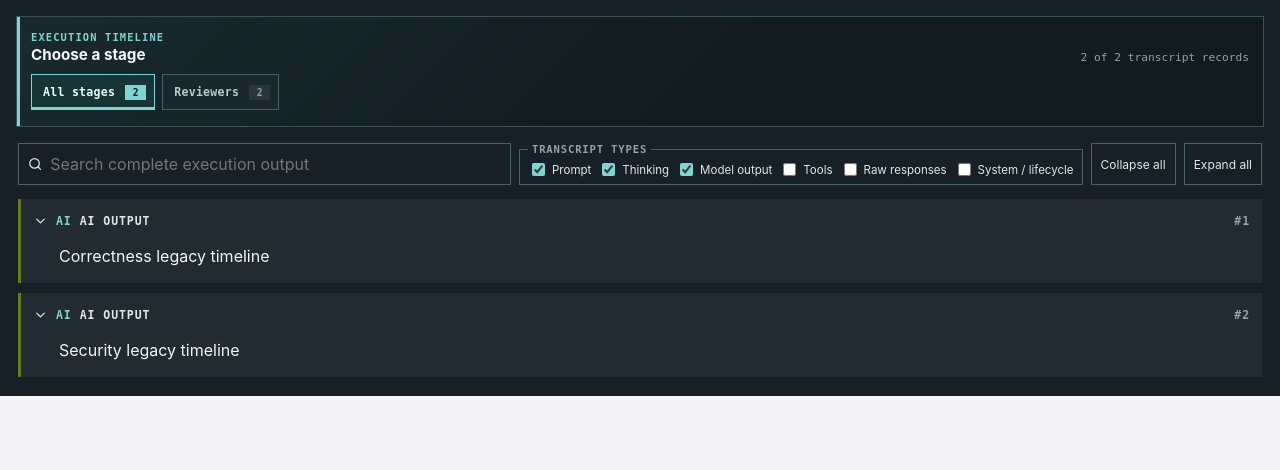
Test case: selects reviewers for a fixed team whose legacy execution has no persisted plan
Click the button "Reviewers 2" at x=221, y=92, box left=162, top=74, right=279, bottom=110
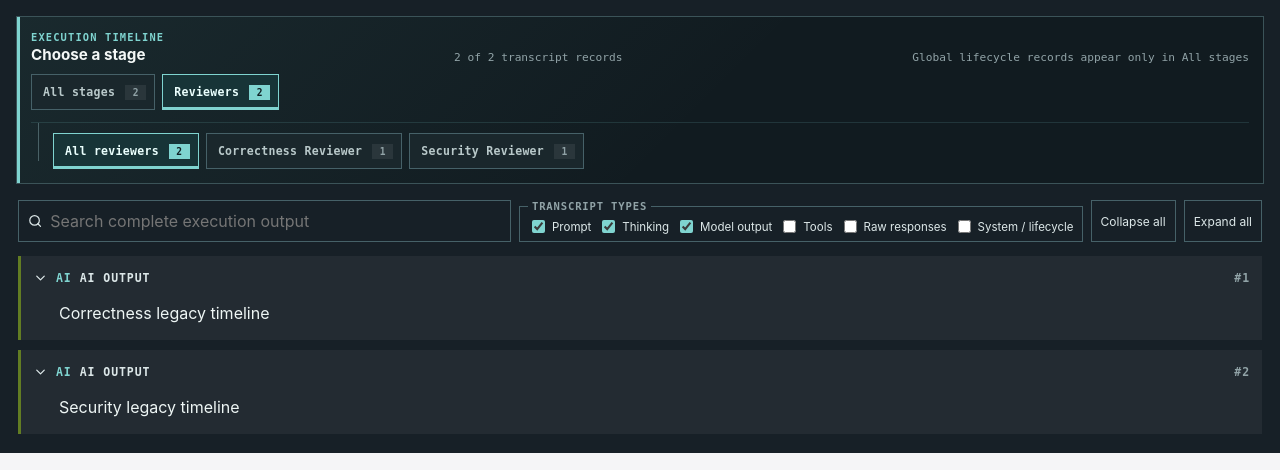
Click the button "Security Reviewer 1" at x=497, y=151, box left=409, top=133, right=584, bottom=169
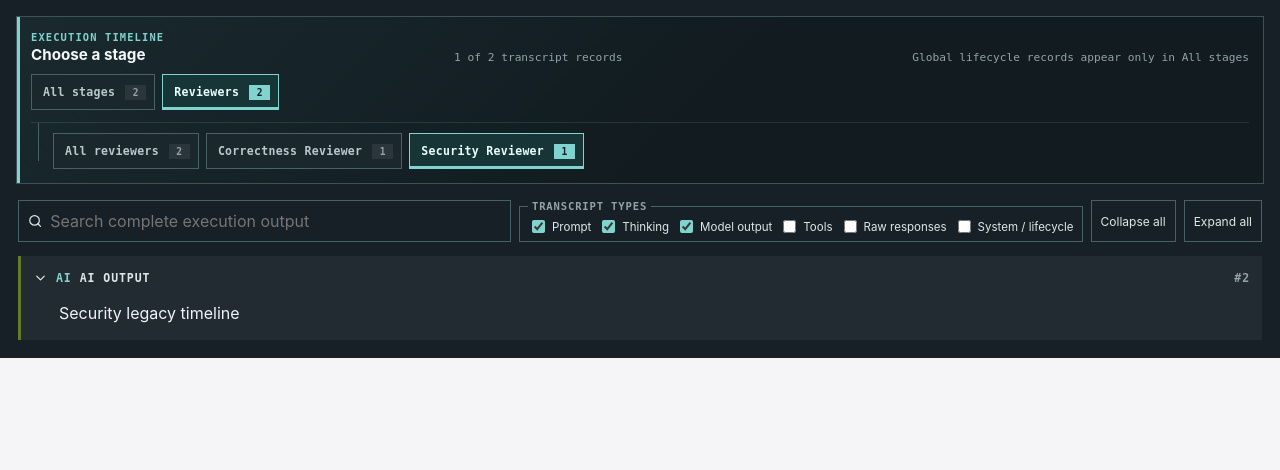
Expected: the text "Security legacy timeline" is shown, left=59, top=303, right=240, bottom=323
Now the text "Correctness legacy timeline" is gone
